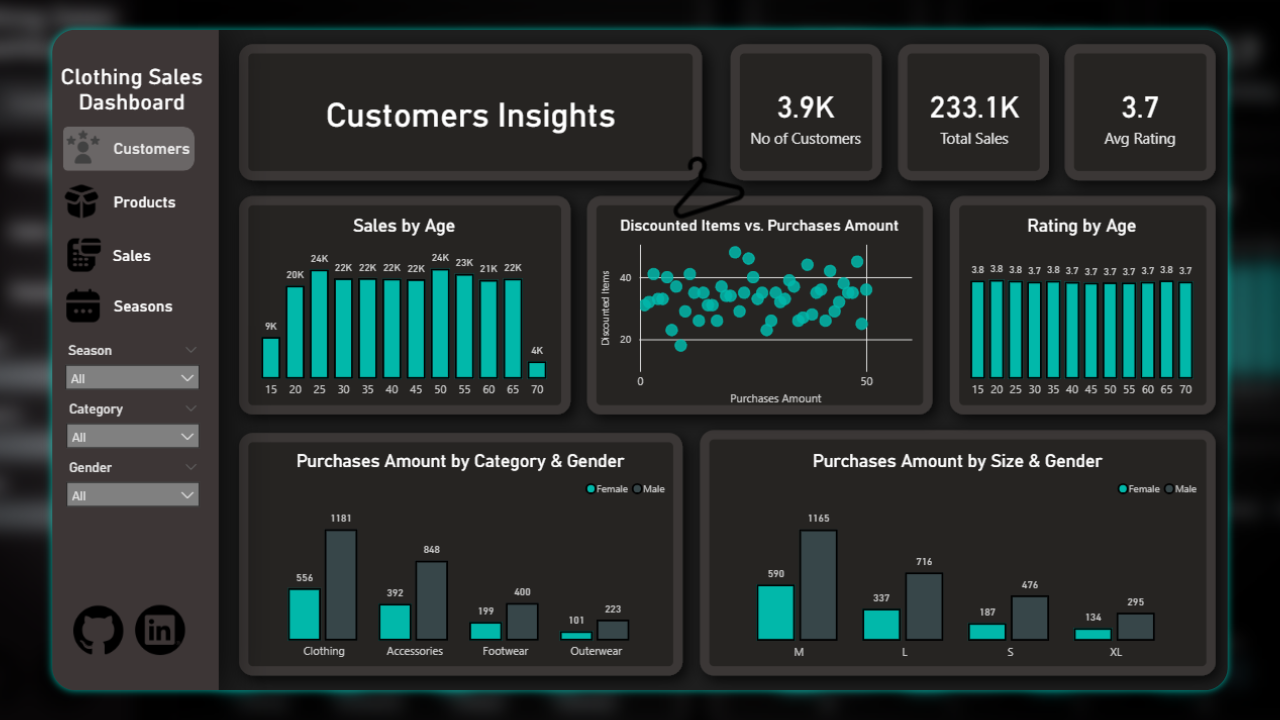

This screenshot's page, from the dashboard's own definition file:
{"tool":"powerbi","page":{"name":"Customers","canvas":[1280,720],"ordinal":0},"visuals":[{"type":"shape","box":[217.2,27.3,483.4,134.2],"z":0},{"type":"card","fields":{"Values":["shopping_behavior_updated.No of Customers"]},"box":[749.7,27.1,141.9,134.2],"z":1000},{"type":"card","fields":{"Values":["shopping_behavior_updated.Total Sales"]},"box":[931.6,27.1,141.9,134.2],"z":2000},{"type":"card","fields":{"Values":["shopping_behavior_updated.Avg Rating"]},"box":[1111.1,26.8,142,134.2],"z":3000},{"type":"clusteredColumnChart","title":"Rating by Age","fields":{"Category":["shopping_behavior_updated.Age (bins)"],"Y":["Avg(shopping_behavior_updated.Review Rating)"]},"box":[985.8,203.9,267.1,206.5],"z":4000},{"type":"scatterChart","title":"Discounted Items vs. Purchases Amount","fields":{"X":["shopping_behavior_updated.Previous Purchases"],"Y":["shopping_behavior_updated.Total Discount Applied"]},"box":[594.8,203.9,352.3,210.3],"z":5000},{"type":"lineClusteredColumnComboChart","title":"Purchases Amount by Category & Gender","fields":{"Category":["shopping_behavior_updated.Category"],"Series":["shopping_behavior_updated.Gender"],"Y":["CountNonNull(shopping_behavior_updated.Item Purchased)"]},"box":[217.2,458.3,460.5,234.6],"z":6000},{"type":"lineClusteredColumnComboChart","title":"Purchases Amount by Size & Gender","fields":{"Series":["shopping_behavior_updated.Gender"],"Y":["CountNonNull(shopping_behavior_updated.Item Purchased)"],"Category":["shopping_behavior_updated.Size"]},"box":[717.4,458.1,535.5,234.8],"z":7000},{"type":"shape","box":[0,0,185.5,134.2],"z":8000},{"type":"shape","box":[69.7,108.1,116.1,46.5],"z":9000},{"type":"image","box":[11.6,106.8,56.8,46.5],"z":10000},{"type":"shape","box":[69.7,166.2,116.1,46.5],"z":11000},{"type":"image","box":[15.5,164.9,46.5,47.7],"z":12000},{"type":"shape","box":[68.4,224.2,117.4,46.5],"z":13000},{"type":"image","box":[12.9,223.7,56.8,46.5],"z":14000},{"type":"shape","box":[69.8,278.2,116.1,46.5],"z":15000},{"type":"image","box":[11.8,278.2,56.8,46.5],"z":16000},{"type":"slicer","fields":{"Values":["shopping_behavior_updated.Season"]},"box":[11.1,337.4,164.8,63.3],"z":17000},{"type":"slicer","fields":{"Values":["shopping_behavior_updated.Category"]},"box":[12.2,400.7,163.7,63.3],"z":18000},{"type":"slicer","fields":{"Values":["shopping_behavior_updated.Gender"]},"box":[12.2,464,163.7,63.3],"z":19000},{"type":"image","box":[17.6,619.8,77.5,64.4],"z":20000},{"type":"image","box":[86.2,619.8,73.1,64.4],"z":21000},{"type":"shape","box":[18.1,108.4,141.9,47.7],"z":22000},{"type":"actionButton","box":[12.9,162.6,147.1,51.6],"z":23000},{"type":"actionButton","box":[10.9,221.5,147.3,51.3],"z":24000},{"type":"actionButton","box":[15.4,275.2,147.3,51.3],"z":25000},{"type":"clusteredColumnChart","title":"Sales by Age","fields":{"Y":["Sum(shopping_behavior_updated.Purchase Amount (USD))"],"Category":["shopping_behavior_updated.Age (bins)"]},"box":[216.8,203.9,339.4,206.5],"z":26000}]}

Visuals, with their boxes on the page's 1280x720 design canvas (x1, y1, x2, y2). These are canvas units, not pixel positions in the 1280x720 screenshot, which may show the page scaled, cropped or inside an application window:
shape: crop(217, 27, 701, 162)
card - shopping_behavior_updated.No of Customers: crop(750, 27, 892, 161)
card - shopping_behavior_updated.Total Sales: crop(932, 27, 1074, 161)
card - shopping_behavior_updated.Avg Rating: crop(1111, 27, 1253, 161)
"Rating by Age" clusteredColumnChart: crop(986, 204, 1253, 410)
"Discounted Items vs. Purchases Amount" scatterChart: crop(595, 204, 947, 414)
"Purchases Amount by Category & Gender" lineClusteredColumnComboChart: crop(217, 458, 678, 693)
"Purchases Amount by Size & Gender" lineClusteredColumnComboChart: crop(717, 458, 1253, 693)
shape: crop(0, 0, 186, 134)
shape: crop(70, 108, 186, 155)
image: crop(12, 107, 68, 153)
shape: crop(70, 166, 186, 213)
image: crop(16, 165, 62, 213)
shape: crop(68, 224, 186, 271)
image: crop(13, 224, 70, 270)
shape: crop(70, 278, 186, 325)
image: crop(12, 278, 69, 325)
slicer - shopping_behavior_updated.Season: crop(11, 337, 176, 401)
slicer - shopping_behavior_updated.Category: crop(12, 401, 176, 464)
slicer - shopping_behavior_updated.Gender: crop(12, 464, 176, 527)
image: crop(18, 620, 95, 684)
image: crop(86, 620, 159, 684)
shape: crop(18, 108, 160, 156)
actionButton: crop(13, 163, 160, 214)
actionButton: crop(11, 222, 158, 273)
actionButton: crop(15, 275, 163, 326)
"Sales by Age" clusteredColumnChart: crop(217, 204, 556, 410)
